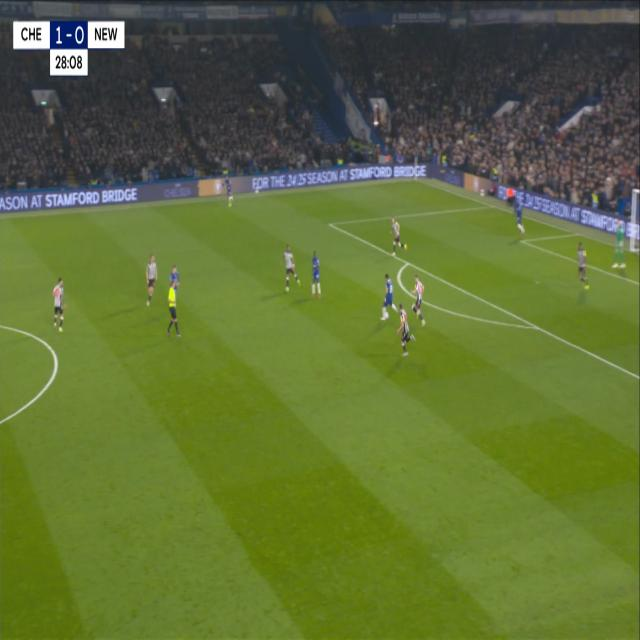Ball: (382, 305, 391, 325)
Chelsea: (379, 268, 398, 322), (308, 246, 324, 300), (221, 170, 237, 206)
New castle: (279, 239, 303, 297), (50, 273, 68, 336), (396, 302, 415, 358), (141, 248, 158, 310), (389, 208, 408, 262), (411, 270, 427, 330), (575, 236, 592, 292)
Refree: (164, 273, 182, 341)
